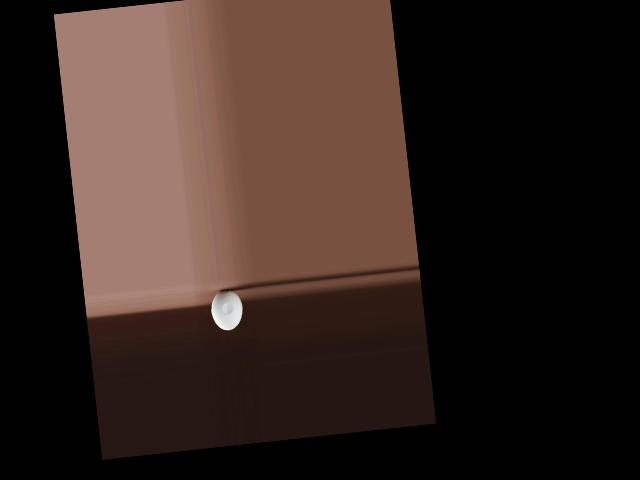egg: (209, 288, 244, 332)
